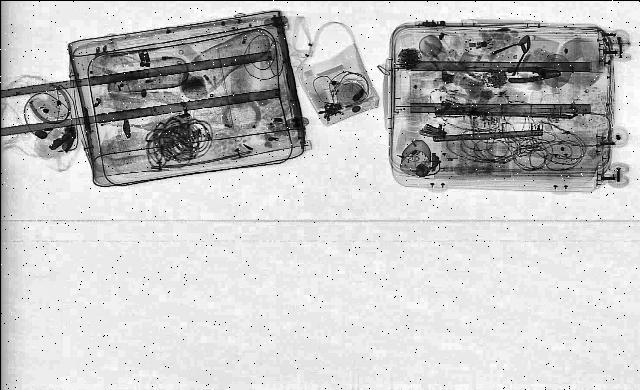Pliers: (504, 66, 558, 81)
